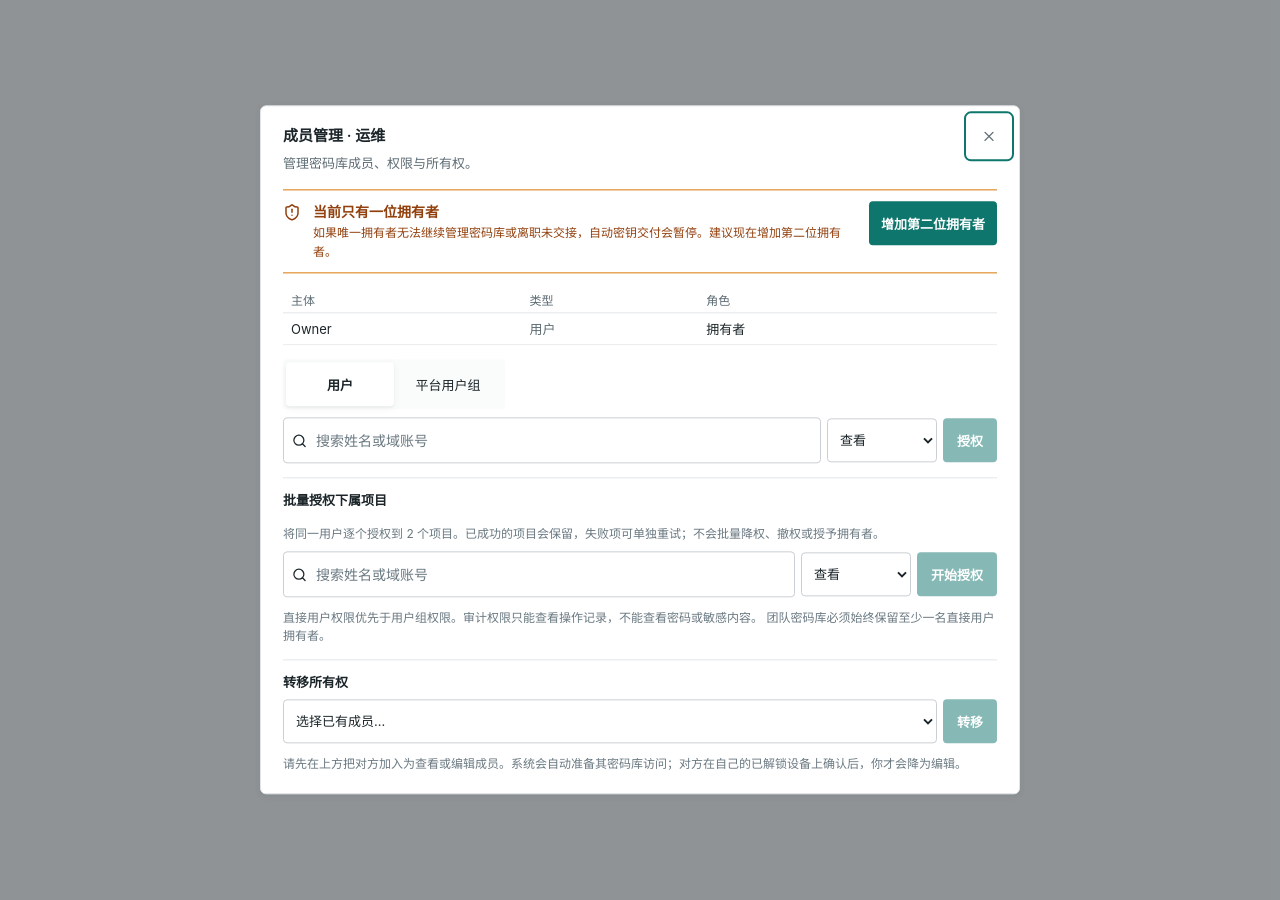
MembersDialog project grants › keeps successful projects and retries only failed grants
The width and height of the screenshot is (1280, 900).
Type "erin" into the dropdown named "批量授权用户" at (550,575), box top-left (314, 553), bottom-right (786, 597)
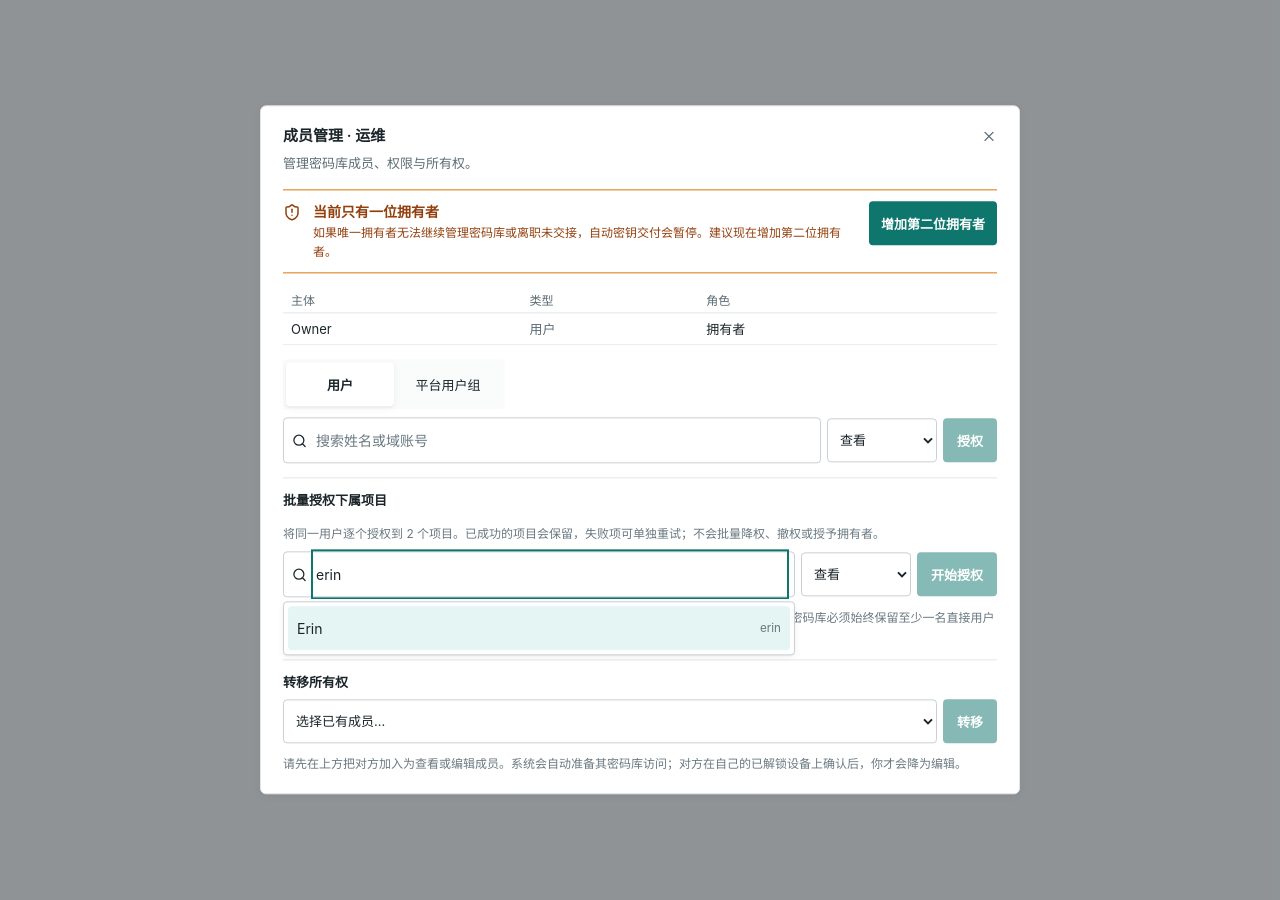
Click the option "Erin erin" at (310,629), box top-left (288, 607), bottom-right (790, 651)
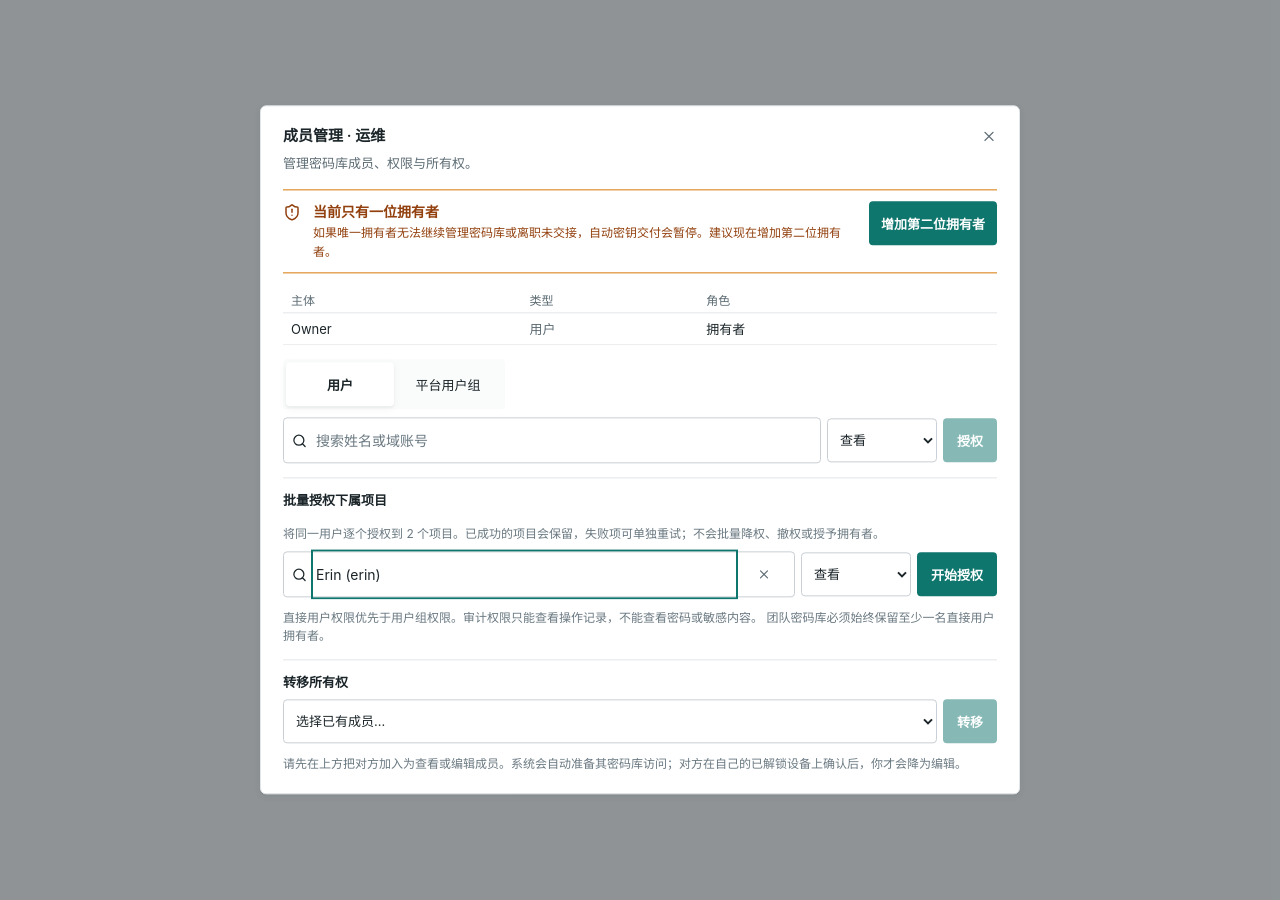
Click the button "开始授权" at (957,575), box top-left (917, 553), bottom-right (997, 597)
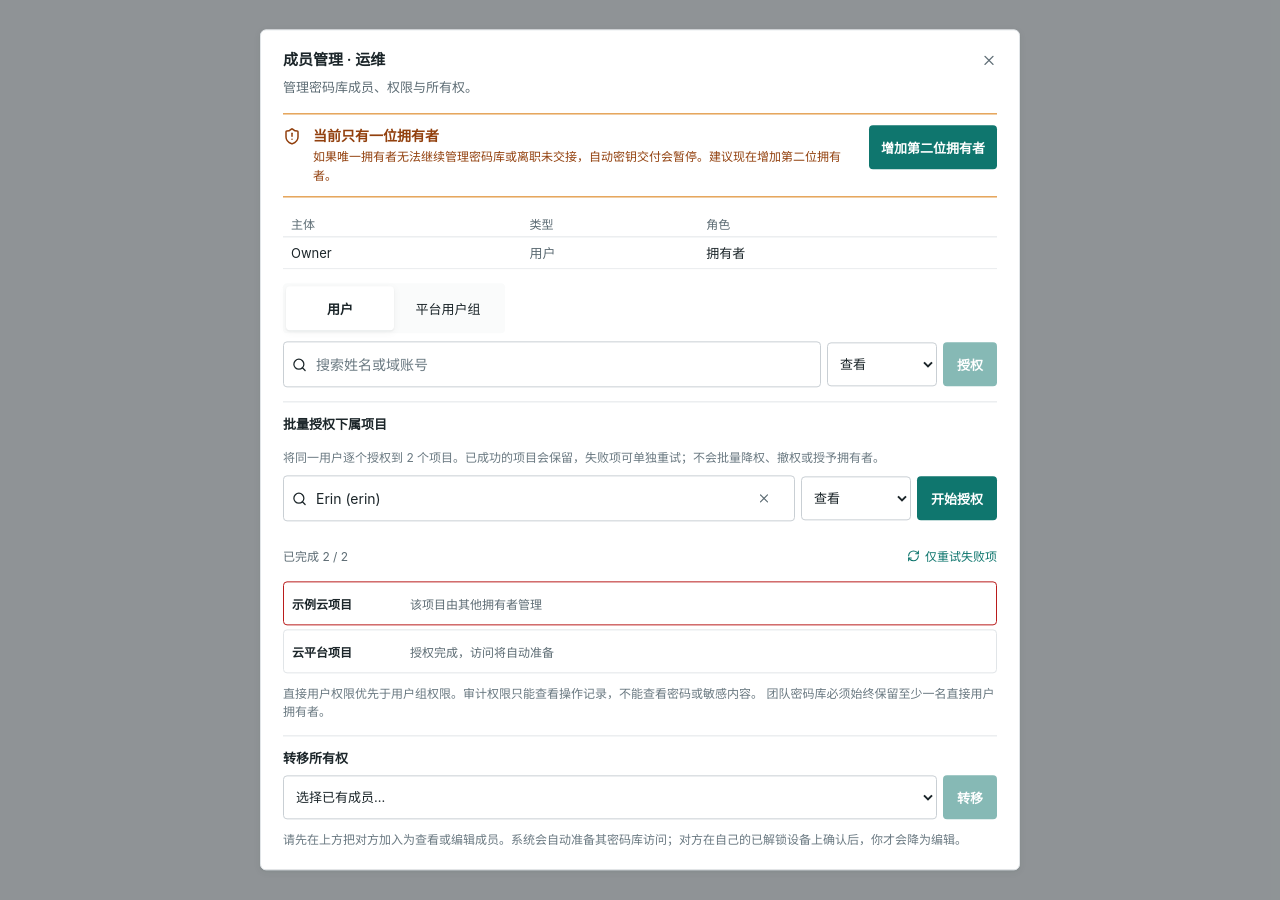
Now the text "该项目由其他拥有者管理" is shown, box top-left (410, 595), bottom-right (542, 612)
Now the text "授权完成，访问将自动准备" is shown, box top-left (410, 643), bottom-right (554, 660)
Click the button "仅重试失败项" at (952,556), box top-left (907, 547), bottom-right (997, 564)
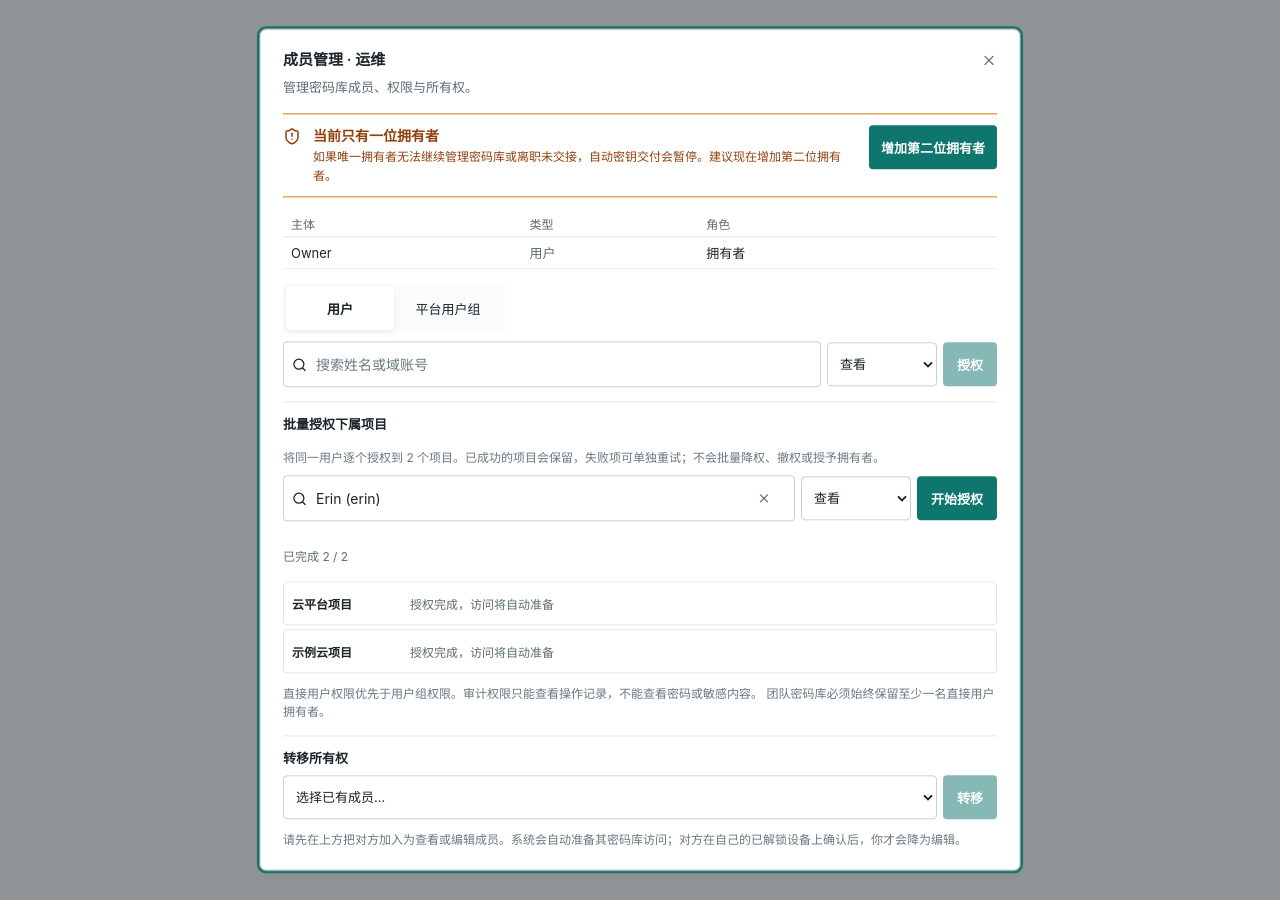
Now the text "该项目由其他拥有者管理" is gone
